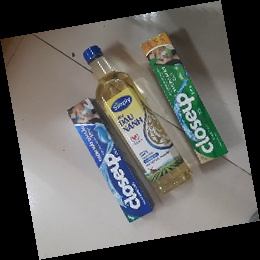CloseUp Tuyet: (65, 97, 154, 223)
CloseUp Xanh: (140, 32, 227, 167)
Simply: (84, 45, 192, 193)
